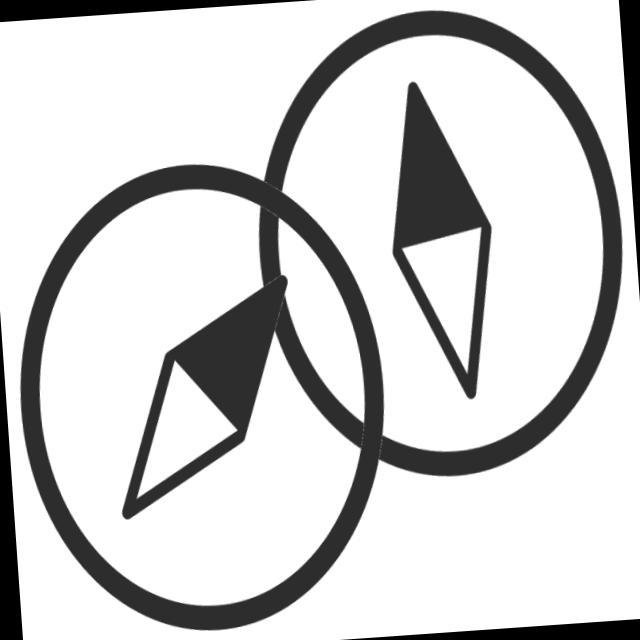compass: (236, 1, 640, 510), (1, 136, 407, 640)
